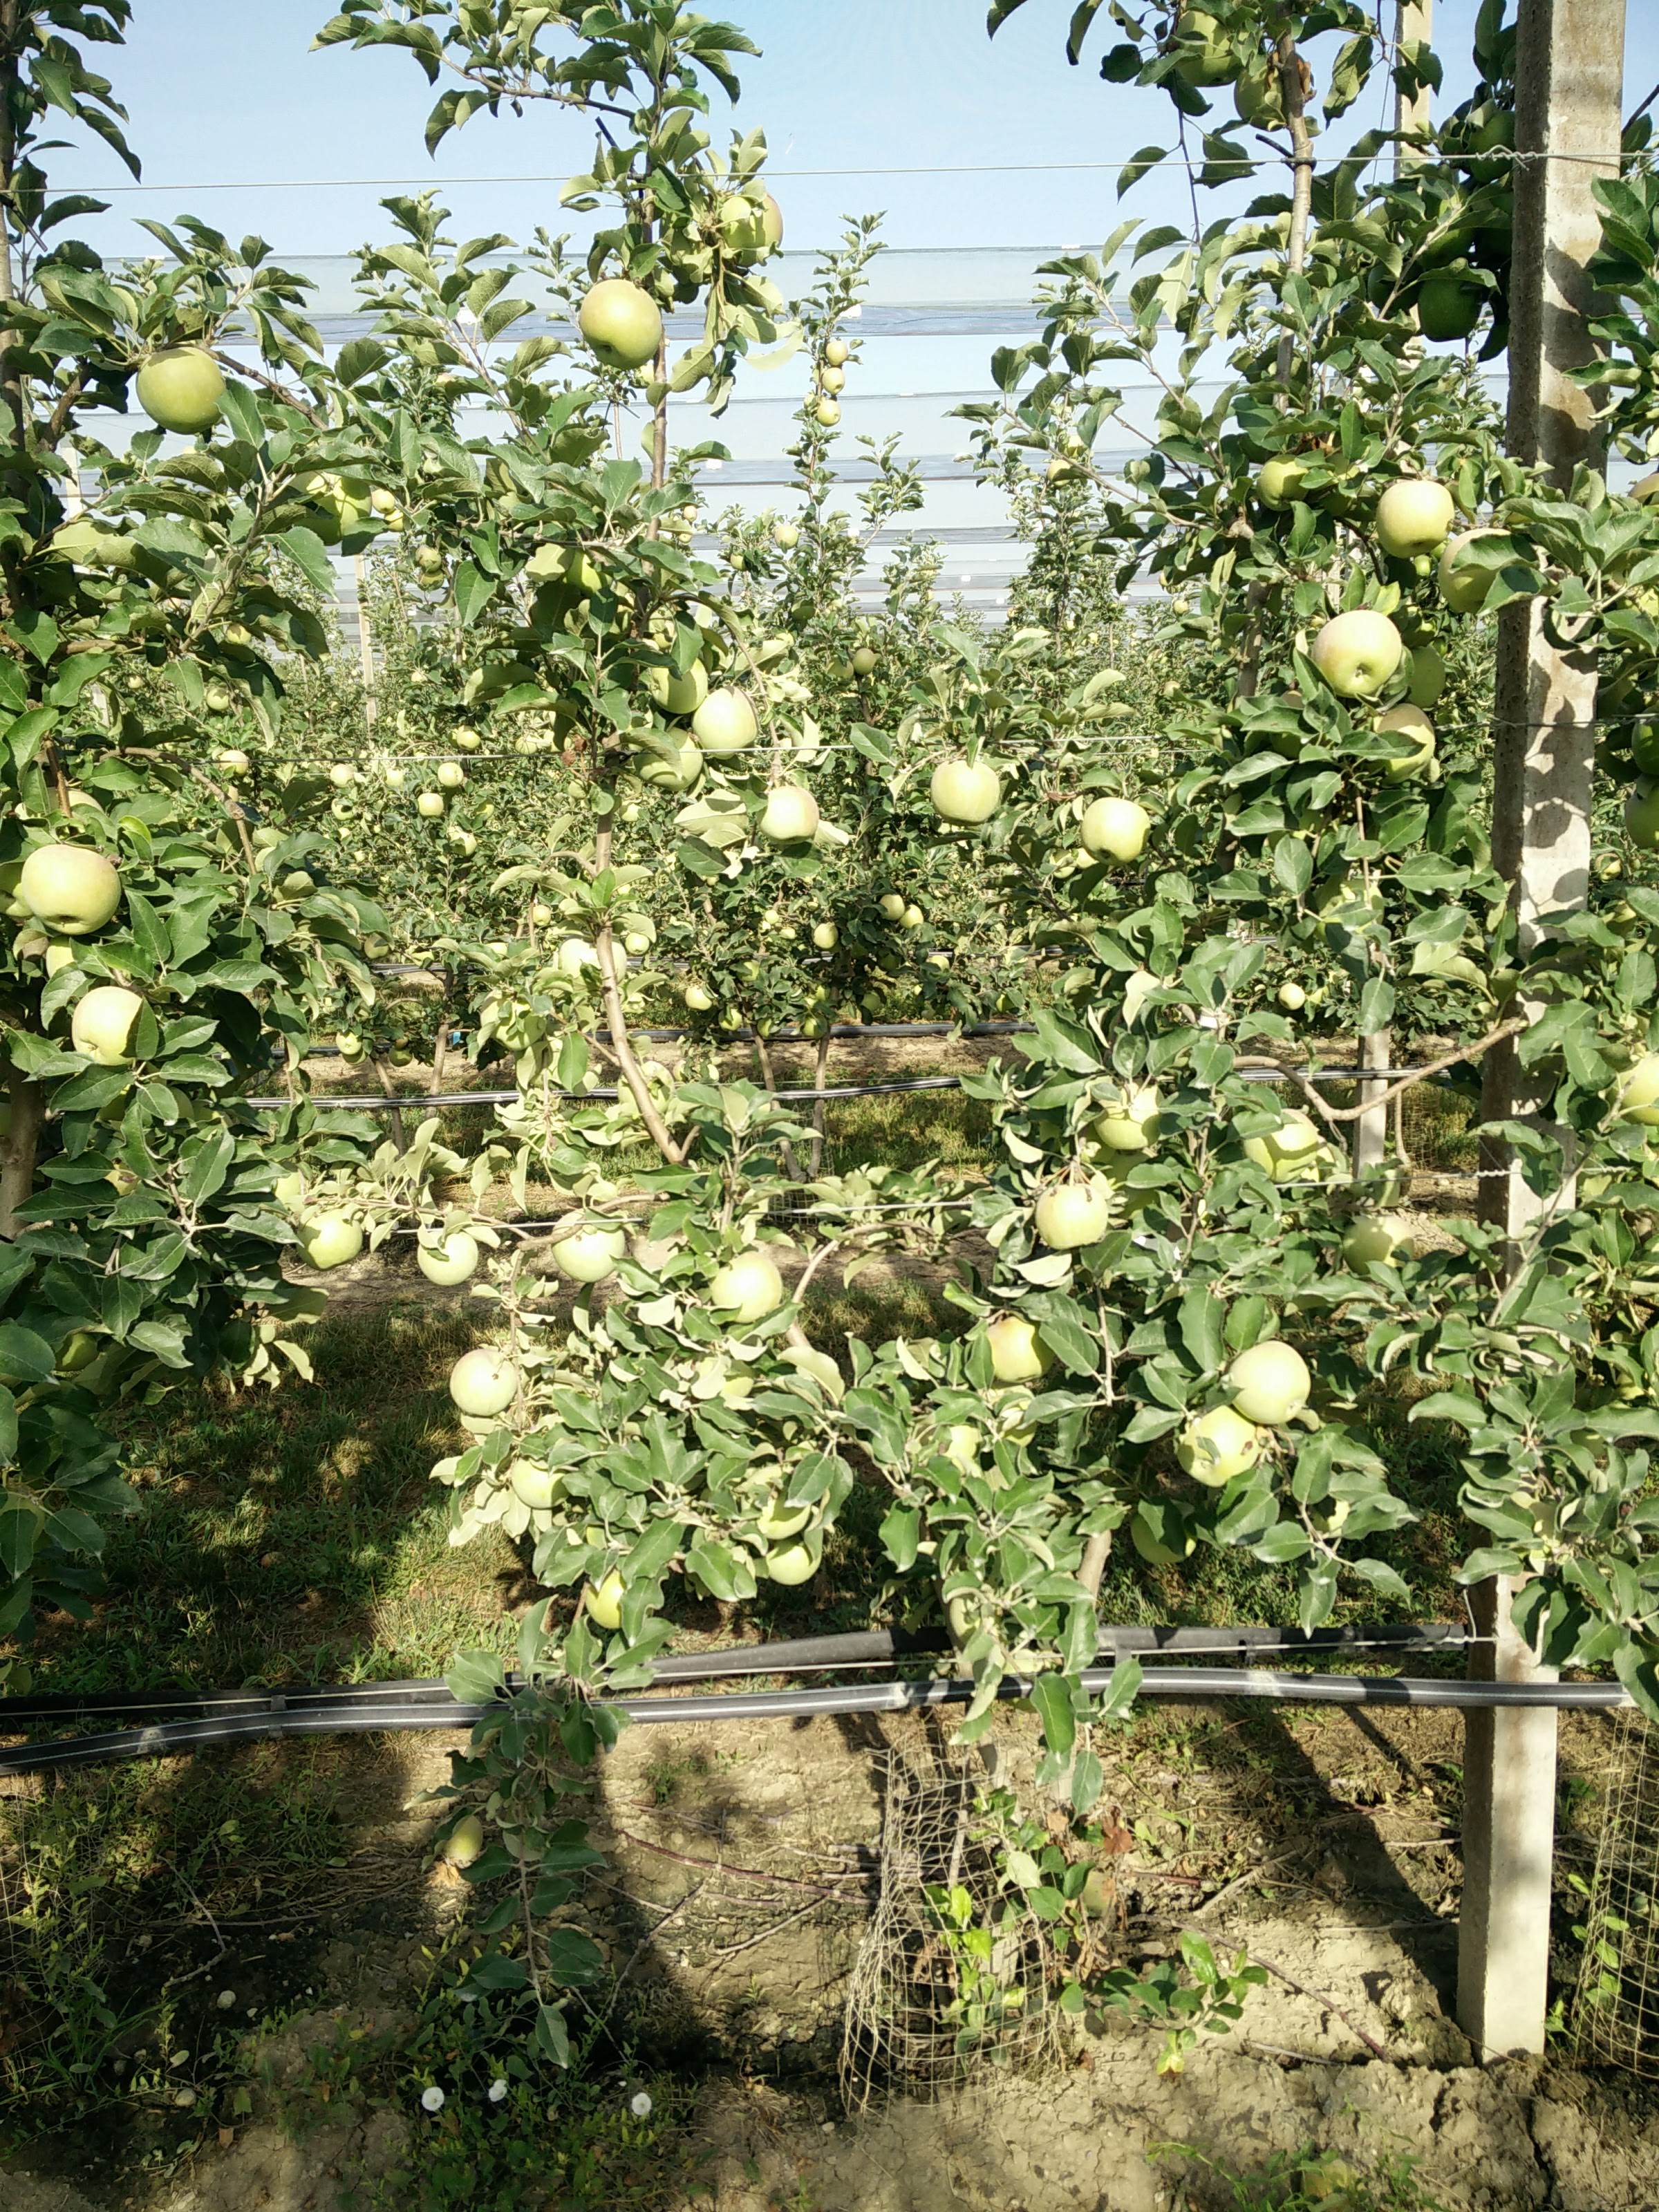apple: (19, 843, 121, 934), (1310, 608, 1400, 708), (133, 345, 229, 433), (1222, 1336, 1311, 1424), (579, 277, 661, 369), (1176, 1407, 1264, 1489), (1372, 475, 1454, 558), (702, 182, 786, 263), (68, 984, 150, 1061), (971, 1315, 1054, 1380), (709, 1250, 782, 1320), (1036, 1182, 1112, 1250), (691, 687, 759, 758), (444, 1349, 518, 1417), (1081, 794, 1148, 865), (932, 755, 998, 825), (552, 1212, 624, 1275), (757, 787, 822, 850), (296, 1210, 363, 1271), (413, 1228, 482, 1287)
